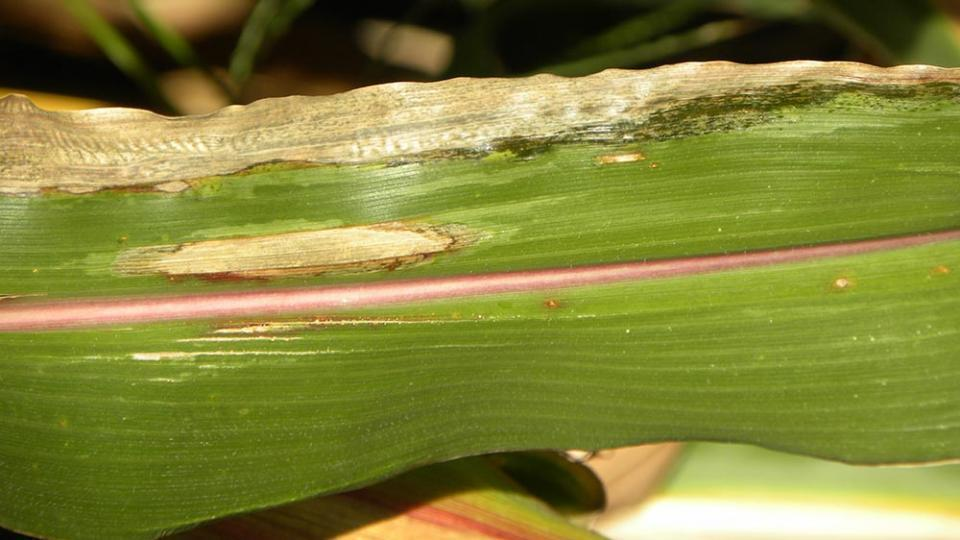Corn leaf blight: (7, 62, 958, 465)
